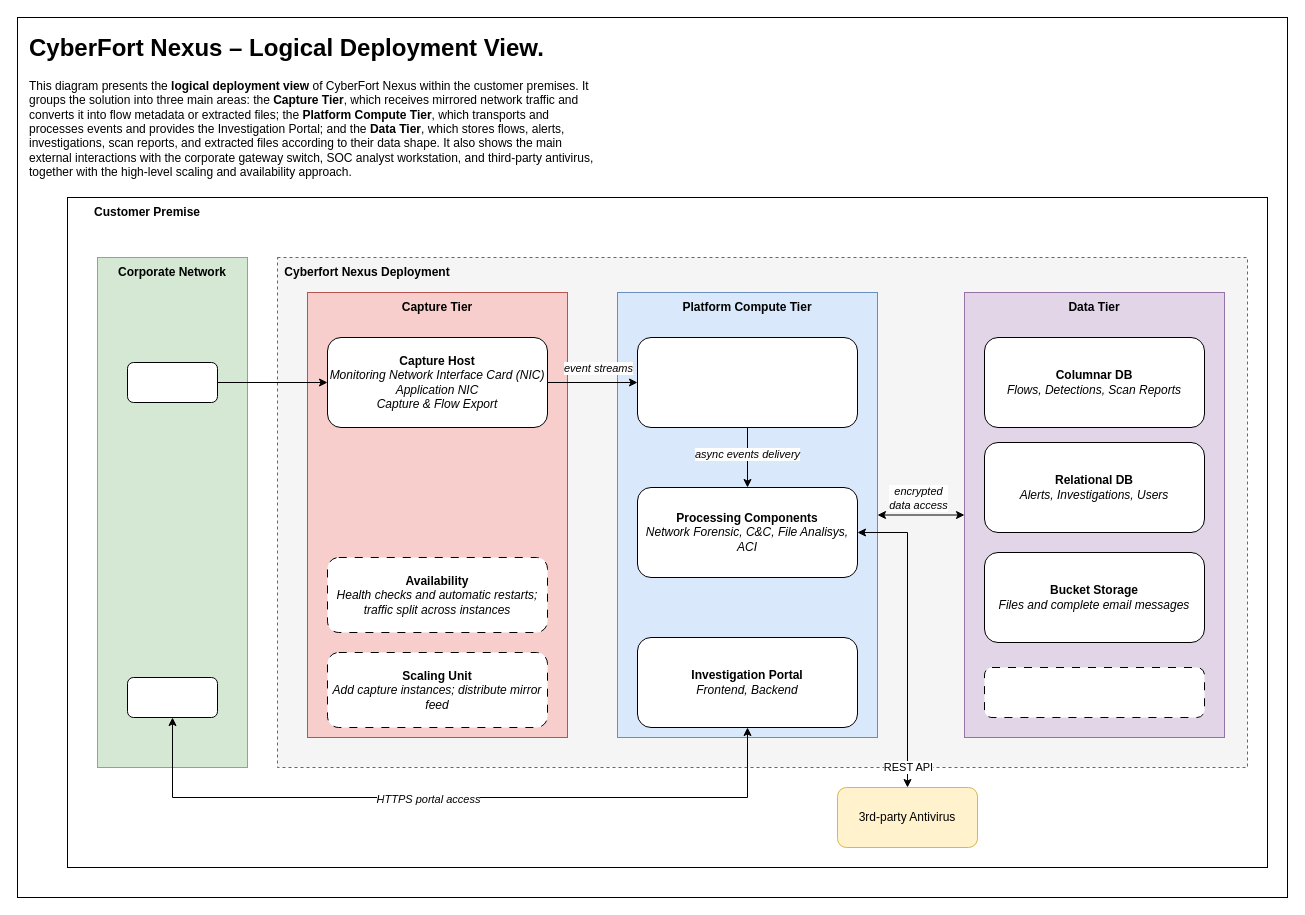
Some shapes in this 1305 by 915 pixel diagram are drawn without their labels. Here are the shapes that lost their labels. From the top down, the centre of each, then its label:
the point at 172,382: GW Switch
the point at 747,382: Durable Event Log inbound, outbound, file.received, alert.raised
the point at 172,697: SOC Workstation
the point at 1094,692: Scaling Unit Add storage capacity/nodes
